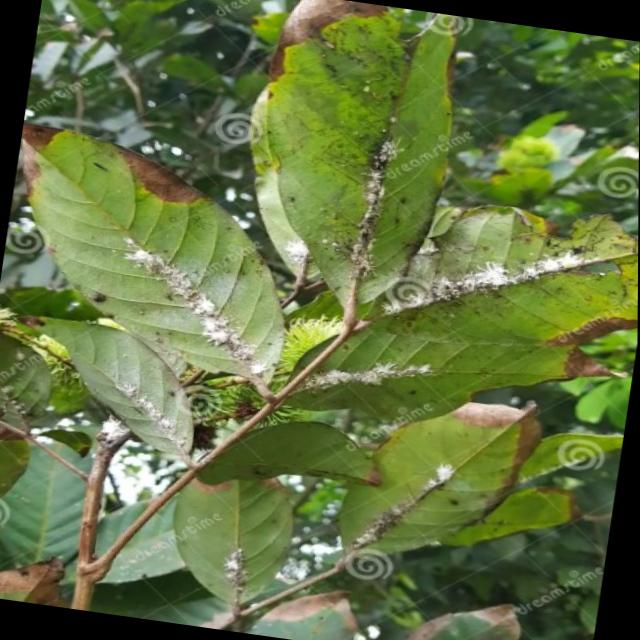Leaf Blight: (4, 84, 207, 282), (398, 370, 600, 500), (236, 0, 456, 114), (508, 298, 634, 430)
